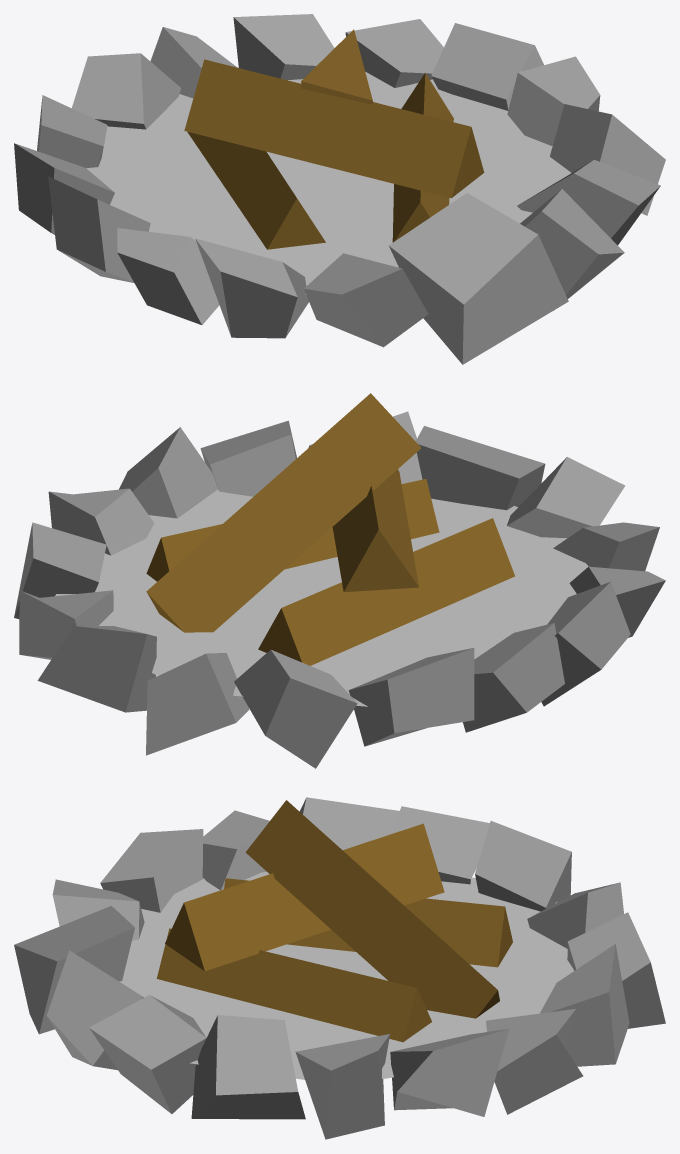
File: Firepit.fbx
3 renders of one model, top to bottom at view 1: azimuth 30°, elevation 25°; view 2: azimuth 150°, elevation 25°; view 3: azimuth 270°, elevation 25°, orthographic. The views are drawn at different scales.
Parts seen in each view (by area): view 1: Cube.006, Cylinder, Grid; view 2: Cube.006, Cylinder, Grid; view 3: Cube.006, Cylinder, Grid.
Boxes of the visible parts, box(x1,y1,x2,y2) form: Cube.006: box(14, 14, 665, 364); Cylinder: box(184, 29, 484, 249); Grid: box(86, 72, 571, 294); Cube.006: box(14, 411, 665, 768); Cylinder: box(146, 393, 514, 665); Grid: box(55, 489, 588, 706); Cube.006: box(14, 797, 665, 1139); Cylinder: box(156, 800, 512, 1042); Grid: box(119, 872, 573, 1079).
Bounding box in the file's own units: 413 × 171 × 448.
